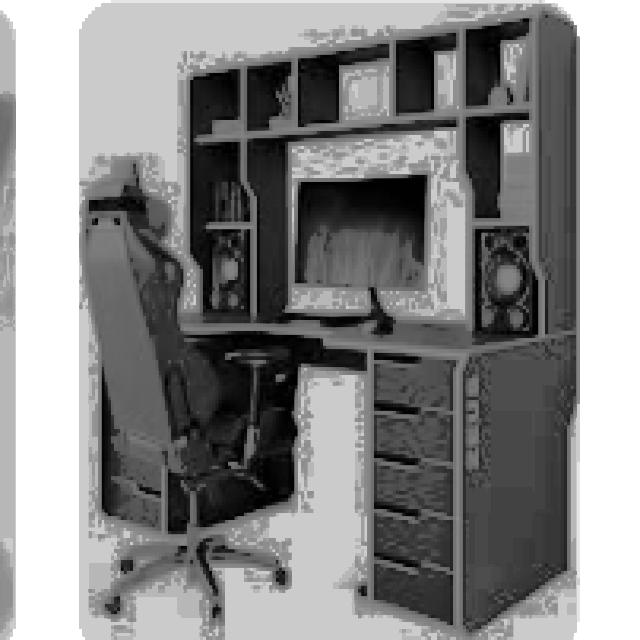book: (83, 164, 304, 626)
table: (174, 309, 577, 633)
